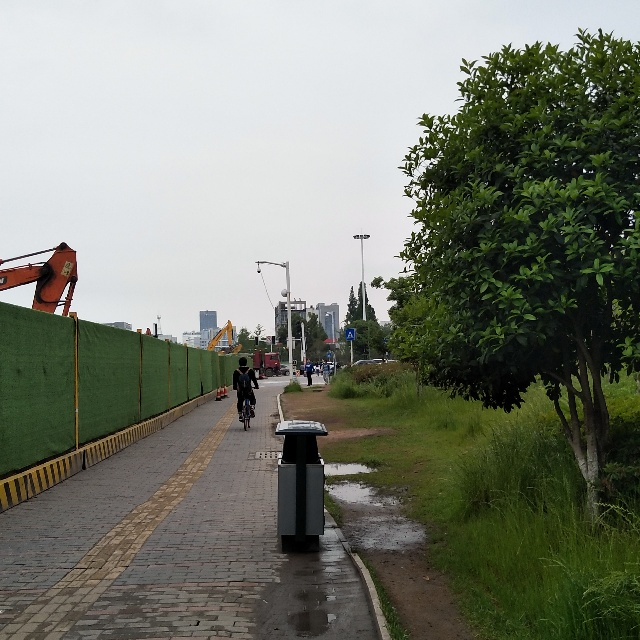crosswalk: (342, 322, 357, 345)
